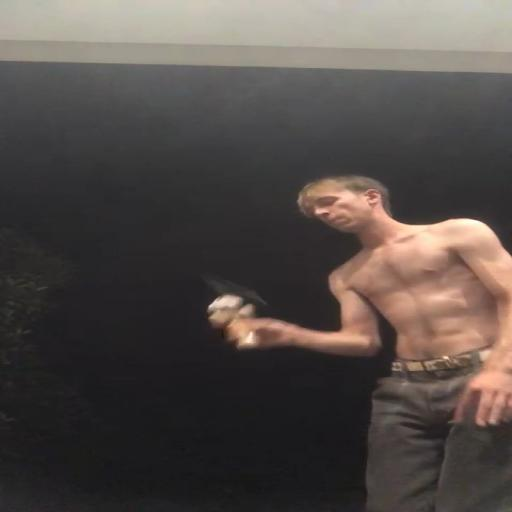kendama_ball: (208, 294, 244, 313)
